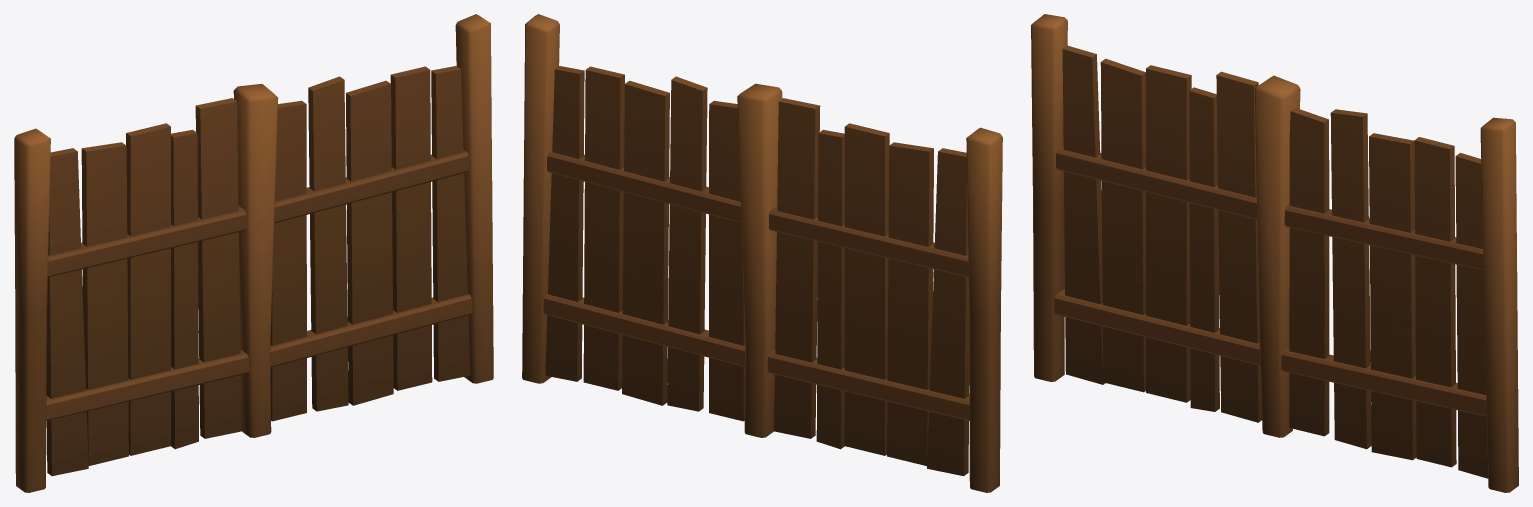
Rendered from WallFence_2_2_C.fbx.
The picture shows the model from 3 angles, left to right: view 1: azimuth 30°, elevation 25°; view 2: azimuth 150°, elevation 25°; view 3: azimuth 330°, elevation 25°; orthographic projection.
Parts seen in each view (by area): view 1: WallFence_2_2_C; view 2: WallFence_2_2_C; view 3: WallFence_2_2_C.
Boxes of the visible parts, x1,y1,x2,y2 form: WallFence_2_2_C: [14, 14, 493, 492]; WallFence_2_2_C: [522, 14, 1002, 492]; WallFence_2_2_C: [1031, 14, 1518, 492].
Size of the model in its own units: 209 by 152 by 14.3.
